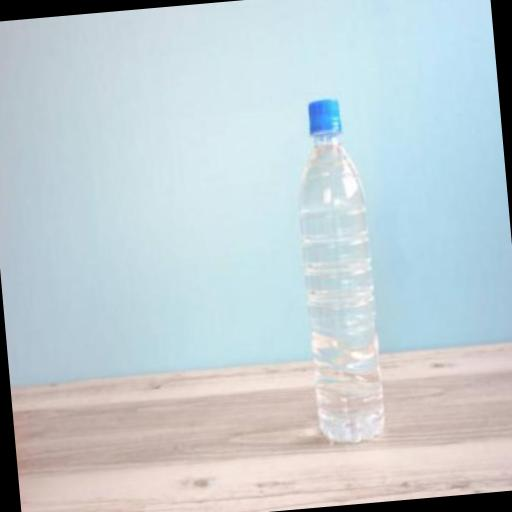Coca: (286, 87, 392, 451)
